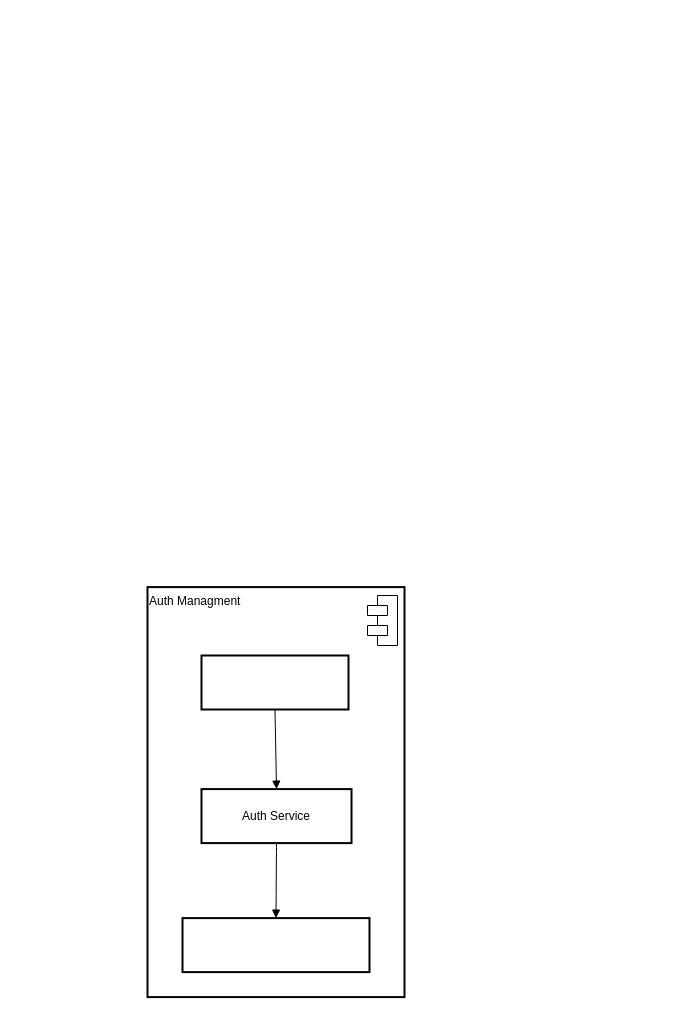
This 674x1015 diagram has some shape labels left out. The centre of each missing label's shape, as x and y in pixels:
JWT Service: point 274,682
User Management: point 275,945
